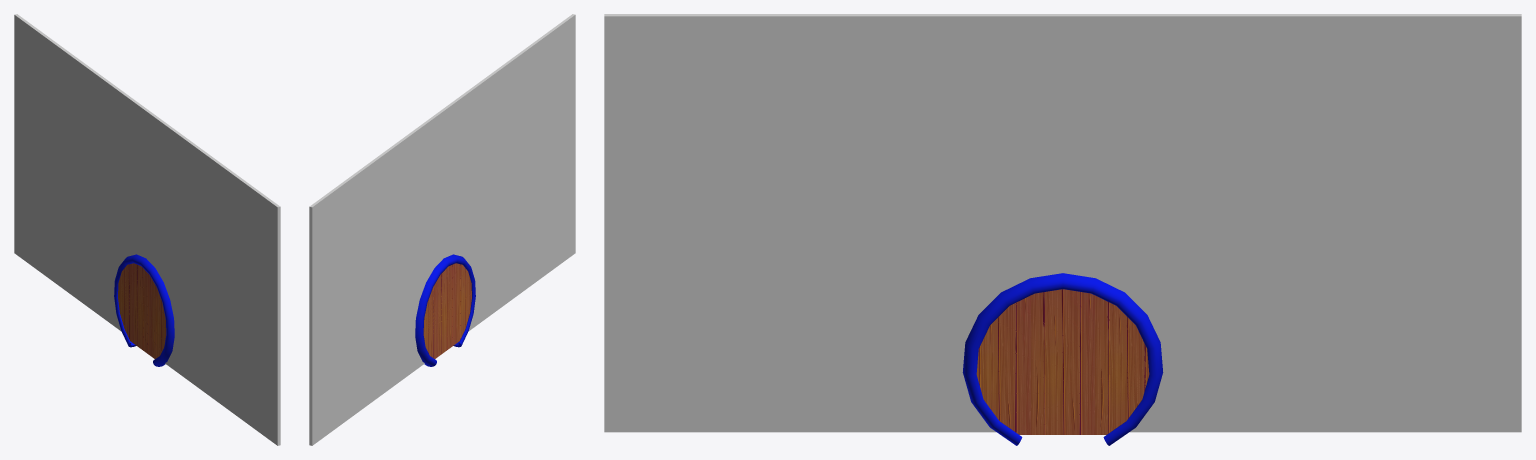
File: Separation_salles.fbx
3 renders of one model, left to right at view 1: azimuth 30°, elevation 25°; view 2: azimuth 150°, elevation 25°; view 3: azimuth 270°, elevation 25°, orthographic. The views are drawn at different scales.
Visible parts, largest first — view 1: Cube, Cylinder, Circle; view 2: Cube, Cylinder, Circle; view 3: Cube, Cylinder, Circle.
Boxes of the visible parts, x1,y1,x2,y2 form: Cube: [14, 14, 280, 445]; Cylinder: [118, 263, 166, 358]; Circle: [114, 254, 174, 366]; Cube: [309, 14, 575, 445]; Cylinder: [423, 263, 471, 358]; Circle: [415, 254, 475, 366]; Cube: [604, 14, 1521, 432]; Cylinder: [976, 289, 1149, 434]; Circle: [962, 273, 1163, 445].
Size of the model in its own units: 9.28 by 320 by 165.
2 materials, 1 textured.
